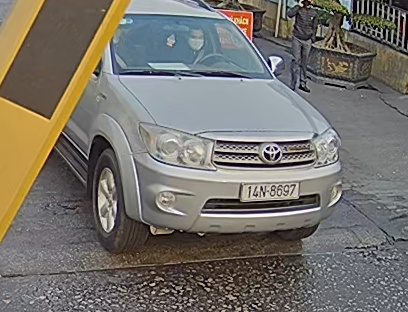vehicle plate: (238, 181, 304, 199)
